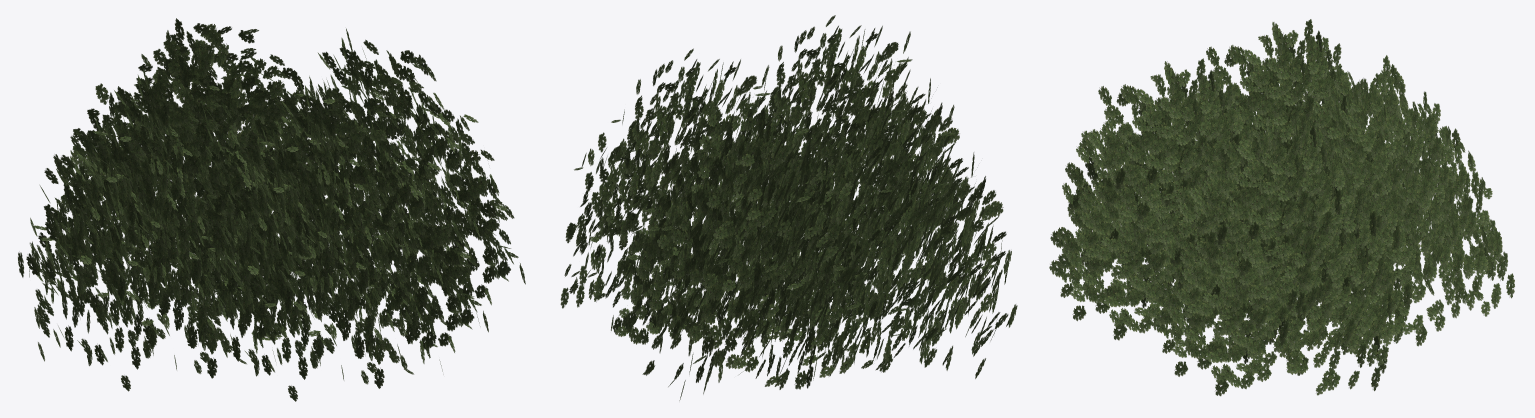
Rendered from oak.glb.
3 renders of one model, left to right at view 1: azimuth 30°, elevation 25°; view 2: azimuth 150°, elevation 25°; view 3: azimuth 270°, elevation 25°, orthographic. The views are drawn at different scales.
Parts seen in each view (by area): view 1: Icosphere.002, Icosphere.003, Icosphere.004, Icosphere.001; view 2: Icosphere.001, Icosphere.003, Icosphere.004, Icosphere.002; view 3: Icosphere.004, Icosphere.002, Icosphere.001, Icosphere.003.
Part boxes in pixels (x1,y1,x2,y2): Icosphere.002: (185, 76, 488, 401); Icosphere.003: (18, 65, 321, 391); Icosphere.004: (233, 28, 525, 353); Icosphere.001: (55, 18, 344, 333); Icosphere.001: (611, 108, 886, 400); Icosphere.003: (746, 88, 1017, 378); Icosphere.004: (560, 48, 820, 337); Icosphere.002: (711, 15, 973, 305); Icosphere.004: (1152, 114, 1423, 396); Icosphere.002: (1049, 58, 1295, 340); Icosphere.001: (1273, 55, 1514, 346); Icosphere.003: (1175, 19, 1428, 264).
Bounding box in the file's own units: 3.49 × 2.16 × 3.48.
5 materials, 5 textured.
